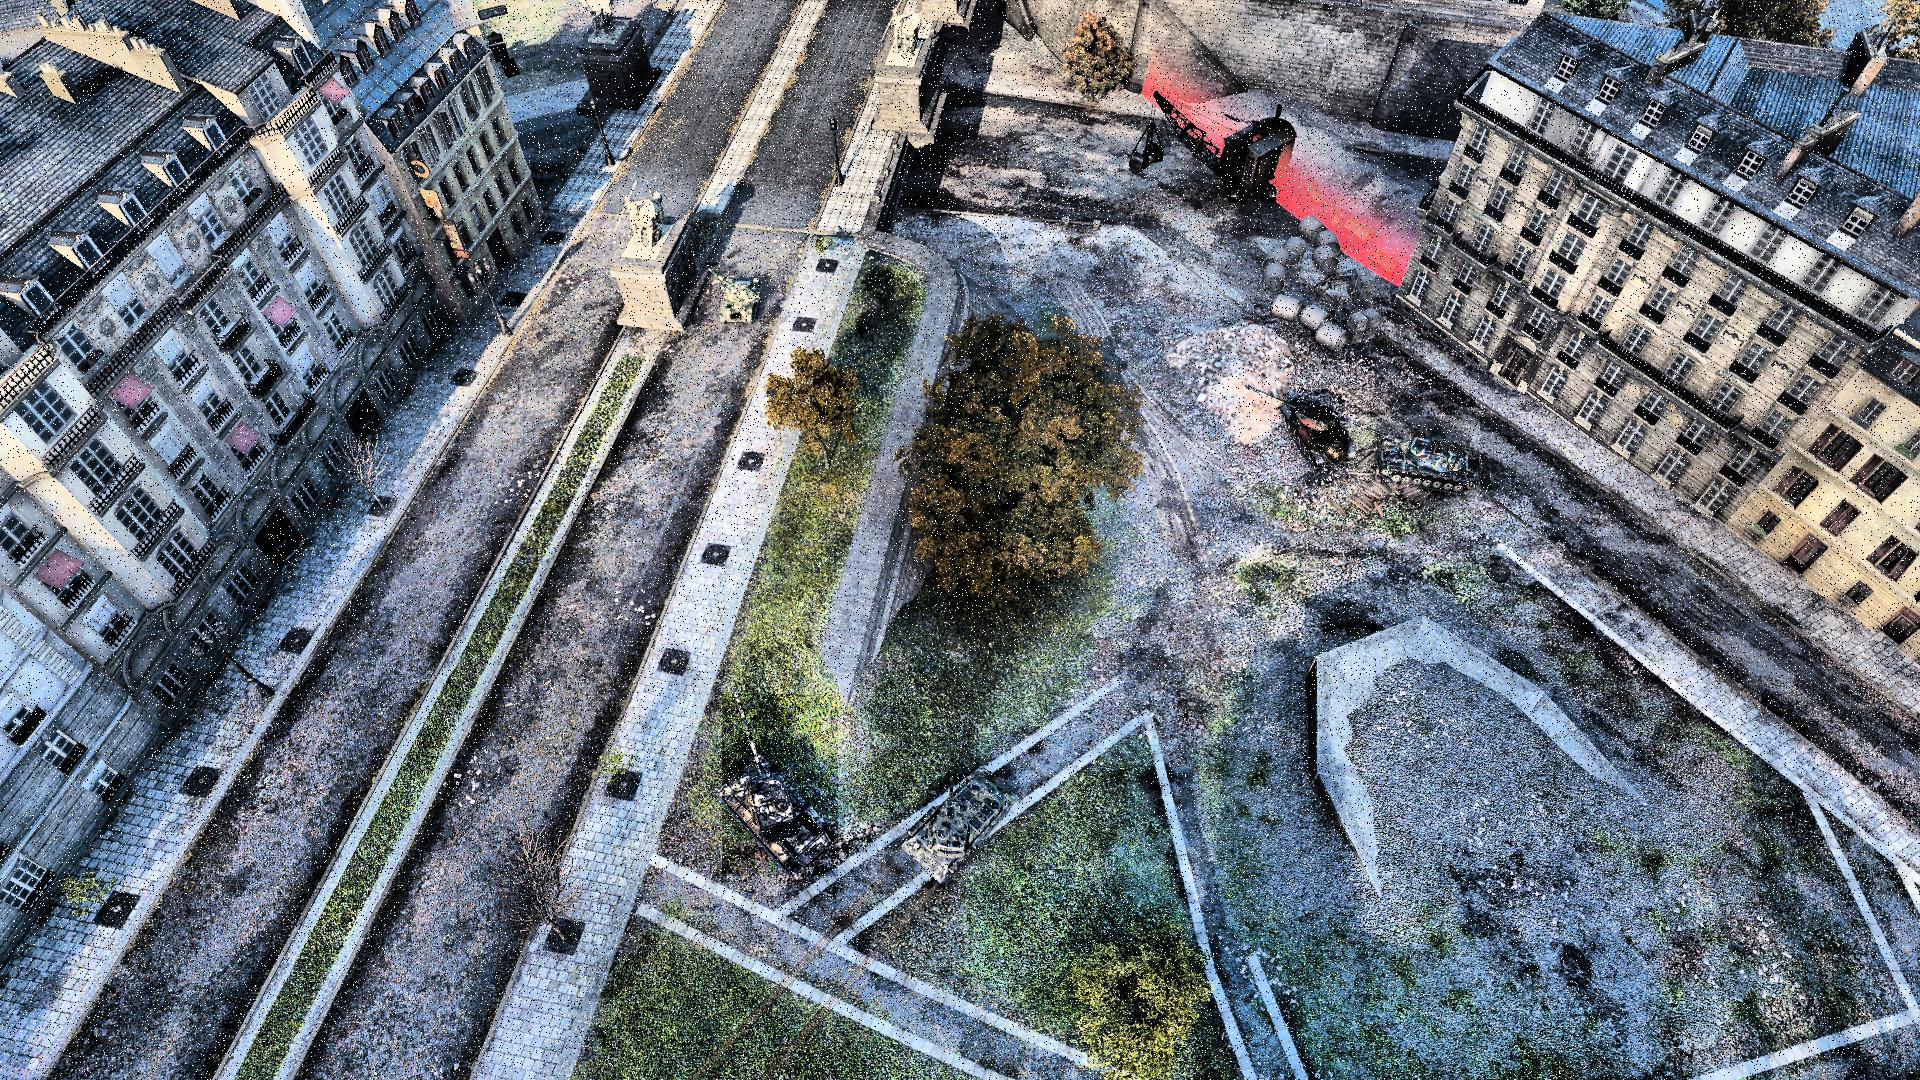military-vehicle: (721, 695, 839, 877), (897, 719, 1009, 884), (1348, 415, 1480, 495), (1245, 382, 1357, 468)
